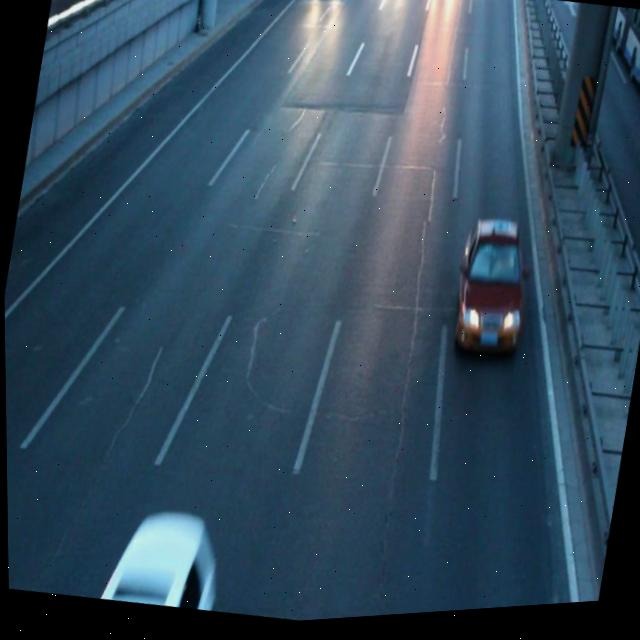car: (83, 502, 226, 620), (443, 221, 537, 368)
